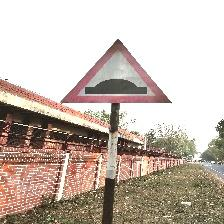Speed-breaker: (64, 46, 166, 103)
